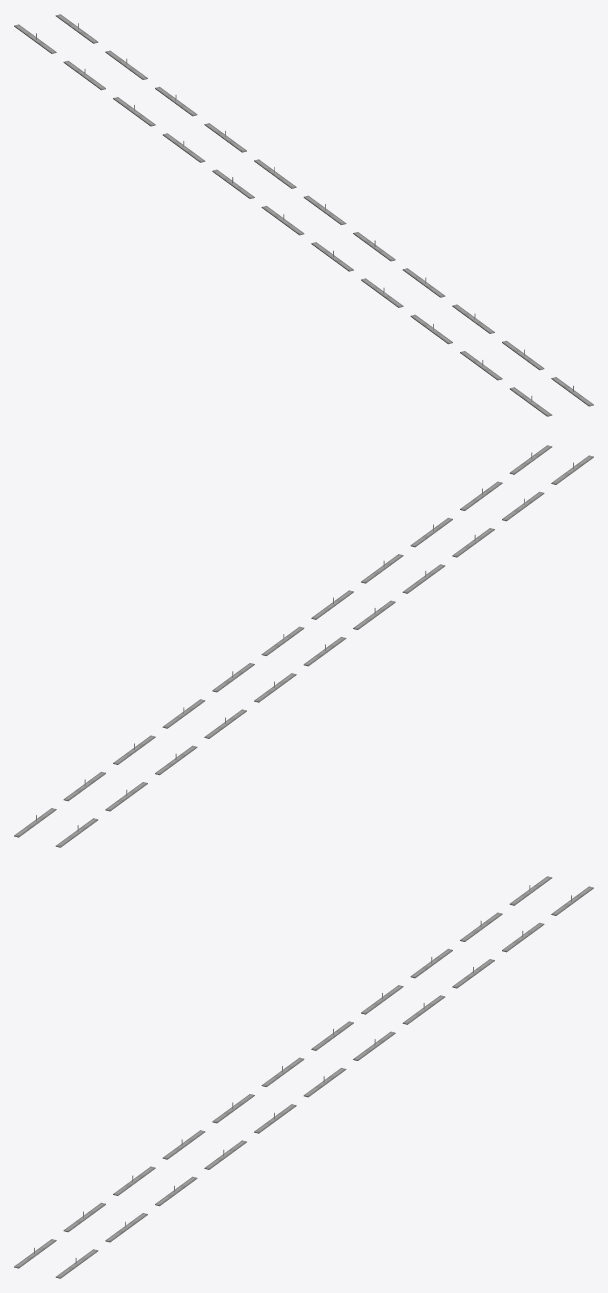
The model's file is Subway06CeilLight.FBX.
The picture shows the model from 3 angles, top to bottom: view 1: azimuth 30°, elevation 25°; view 2: azimuth 150°, elevation 25°; view 3: azimuth 330°, elevation 25°; orthographic projection.
Visible parts, largest first — view 1: Subway06CeilLight; view 2: Subway06CeilLight; view 3: Subway06CeilLight.
Boxes of the visible parts, box(x1,y1,x2,y2) form: Subway06CeilLight: box(14, 14, 593, 416); Subway06CeilLight: box(14, 445, 593, 847); Subway06CeilLight: box(14, 876, 593, 1278).
Bounding box in the file's own units: 3683 × 546 × 72911.
